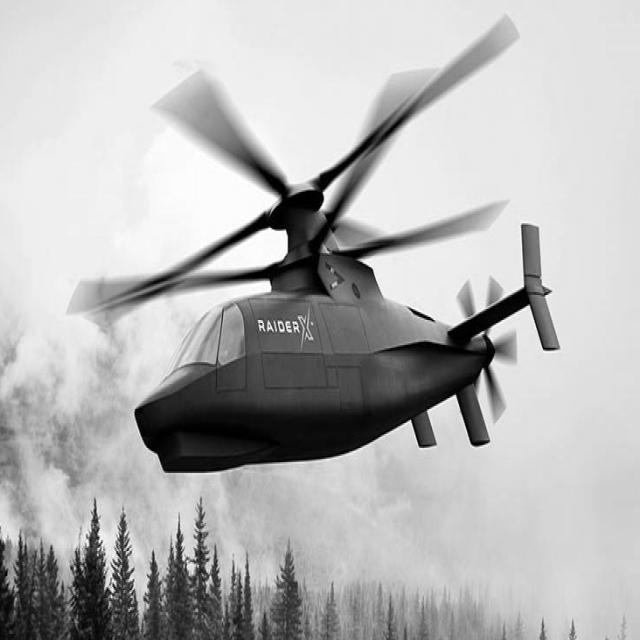helicopter: (46, 1, 581, 522)
